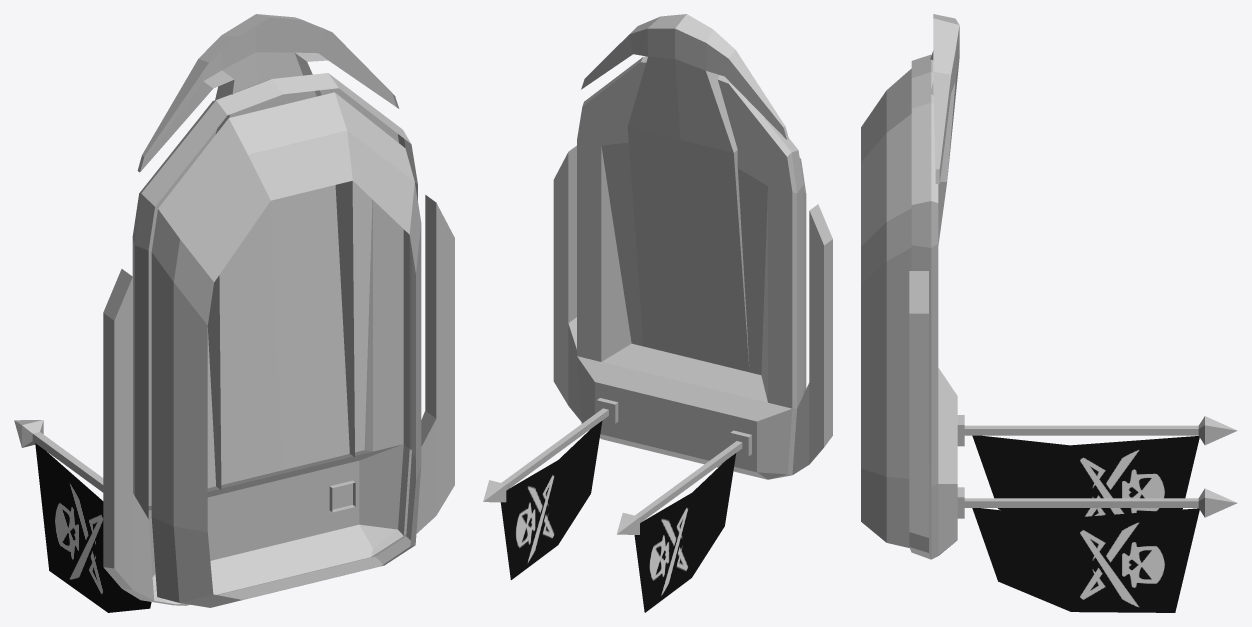
Rendered from pirate_guide_my_ship_2.fbx.
3 renders of one model, left to right at view 1: azimuth 30°, elevation 25°; view 2: azimuth 150°, elevation 25°; view 3: azimuth 270°, elevation 25°, orthographic. The views are drawn at different scales.
Visible parts, largest first — view 1: Cube.403; view 2: Cube.403; view 3: Cube.403.
Boxes of the visible parts, x1=… form: Cube.403: x1=14, y1=14, x2=454, y2=612; Cube.403: x1=483, y1=14, x2=832, y2=612; Cube.403: x1=861, y1=14, x2=1237, y2=612.
Bounding box in the file's own units: 380 × 676 × 413.
